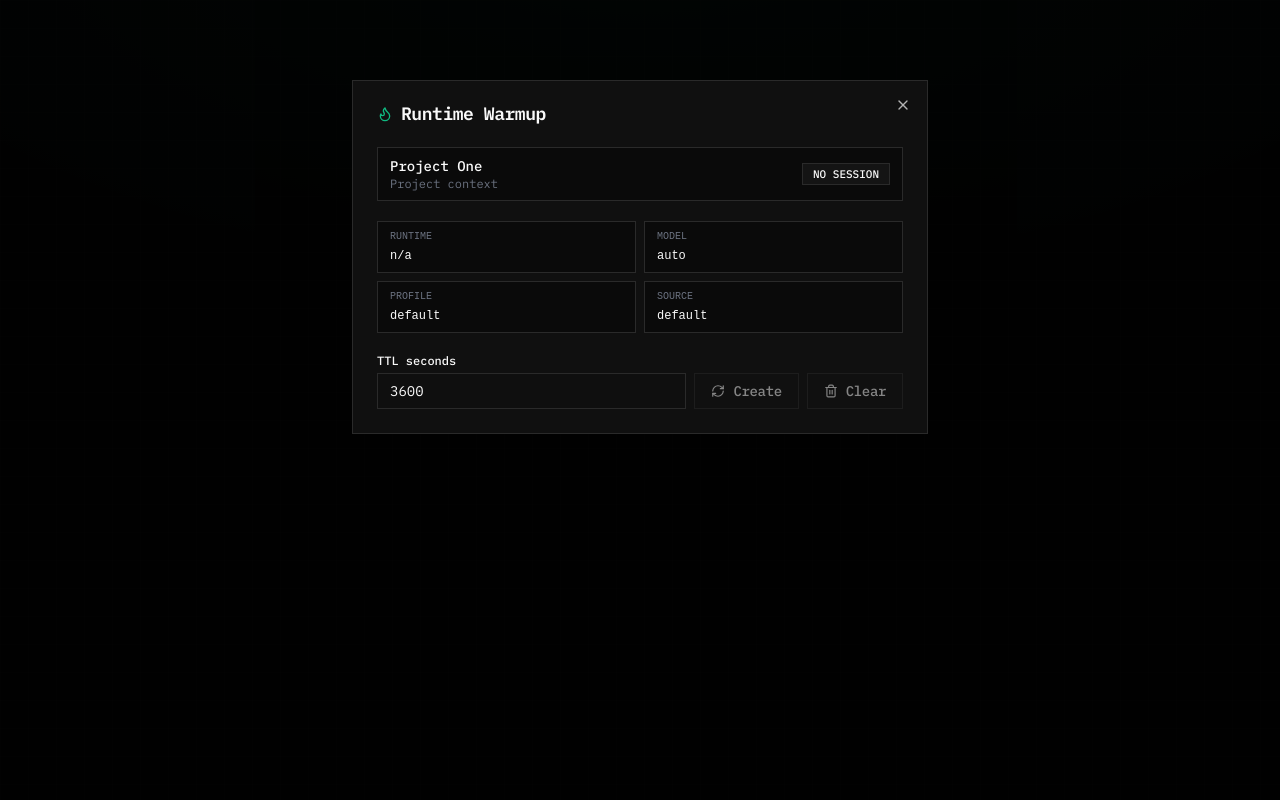
it: WarmupDialog › validates TTL bounds before create
expect the button "Create" is shown: met, box [694,373,799,409]
Replace the text in the number field labelled "TTL seconds" with "30" at (532, 391), box [377,373,686,409]
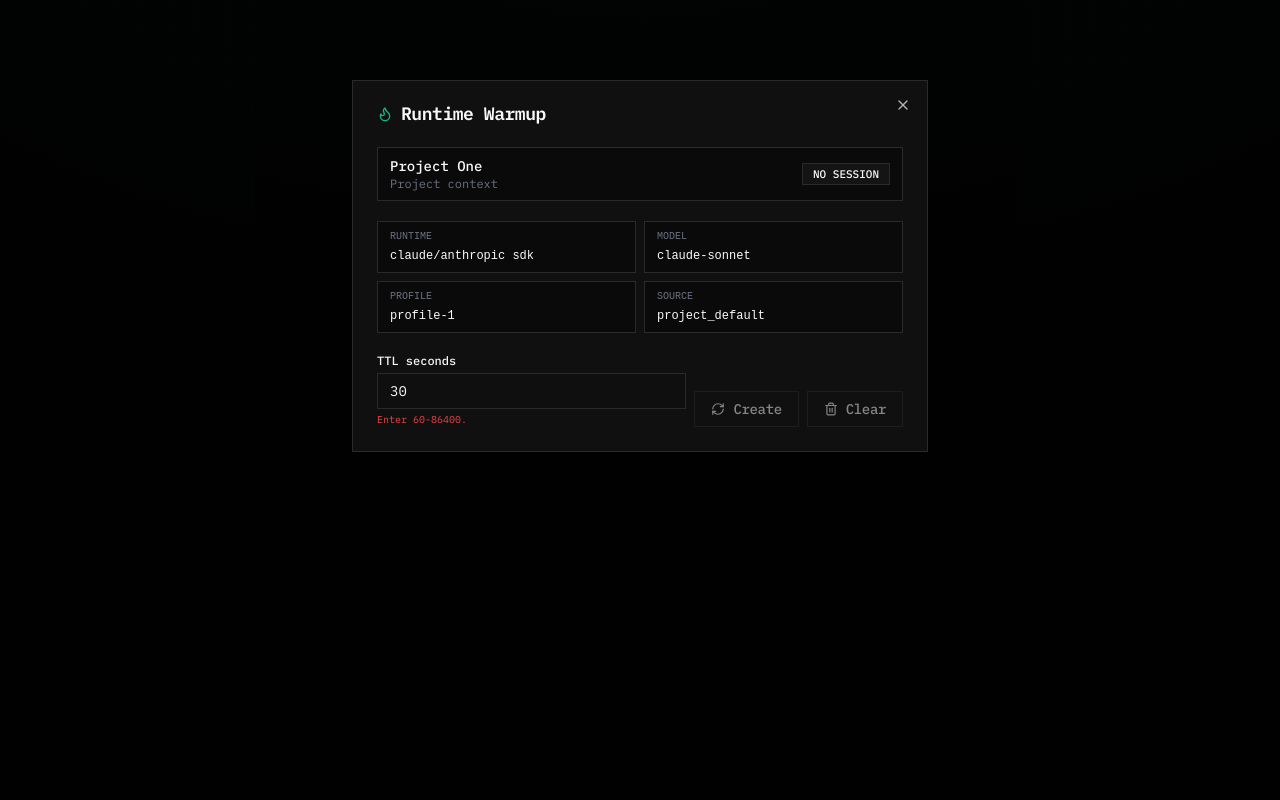
expect the button "Create" is disabled: met, box [694,391,799,427]
expect the text "Enter 60-86400." is shown: met, box [377,413,467,426]
